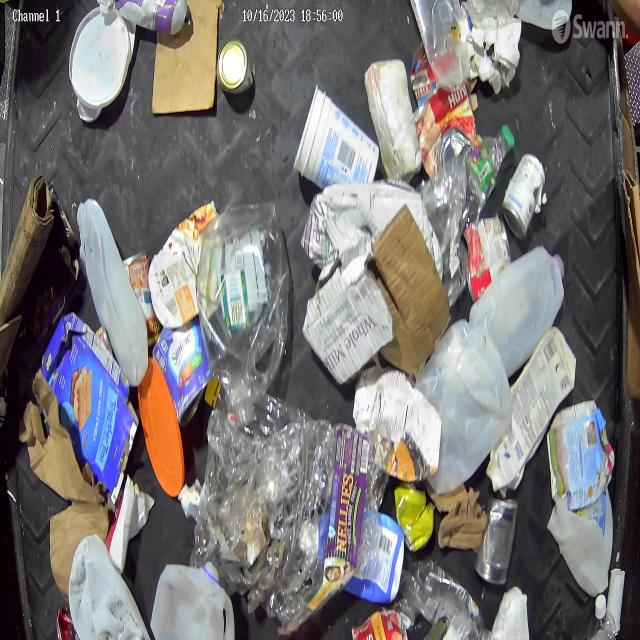can: (151, 319, 210, 427), (460, 214, 511, 302), (122, 250, 163, 347), (474, 498, 518, 586), (502, 152, 546, 240), (394, 482, 434, 553), (116, 0, 192, 35), (217, 40, 254, 94), (351, 609, 408, 640), (438, 127, 472, 172), (56, 607, 76, 640), (95, 324, 113, 353)
milk_jug: (414, 318, 514, 496), (486, 325, 577, 496), (76, 199, 149, 385), (468, 244, 566, 378), (69, 535, 151, 640), (546, 488, 614, 596), (150, 560, 235, 640)
non_white_jug: (197, 202, 290, 426), (41, 311, 137, 499), (352, 367, 440, 486), (148, 201, 223, 330)
plastic_bottle: (414, 560, 492, 640), (467, 124, 515, 215), (586, 593, 616, 640)
